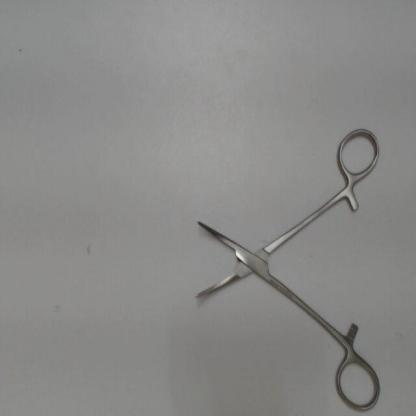Crile Artery Forceps: (188, 115, 388, 415)
